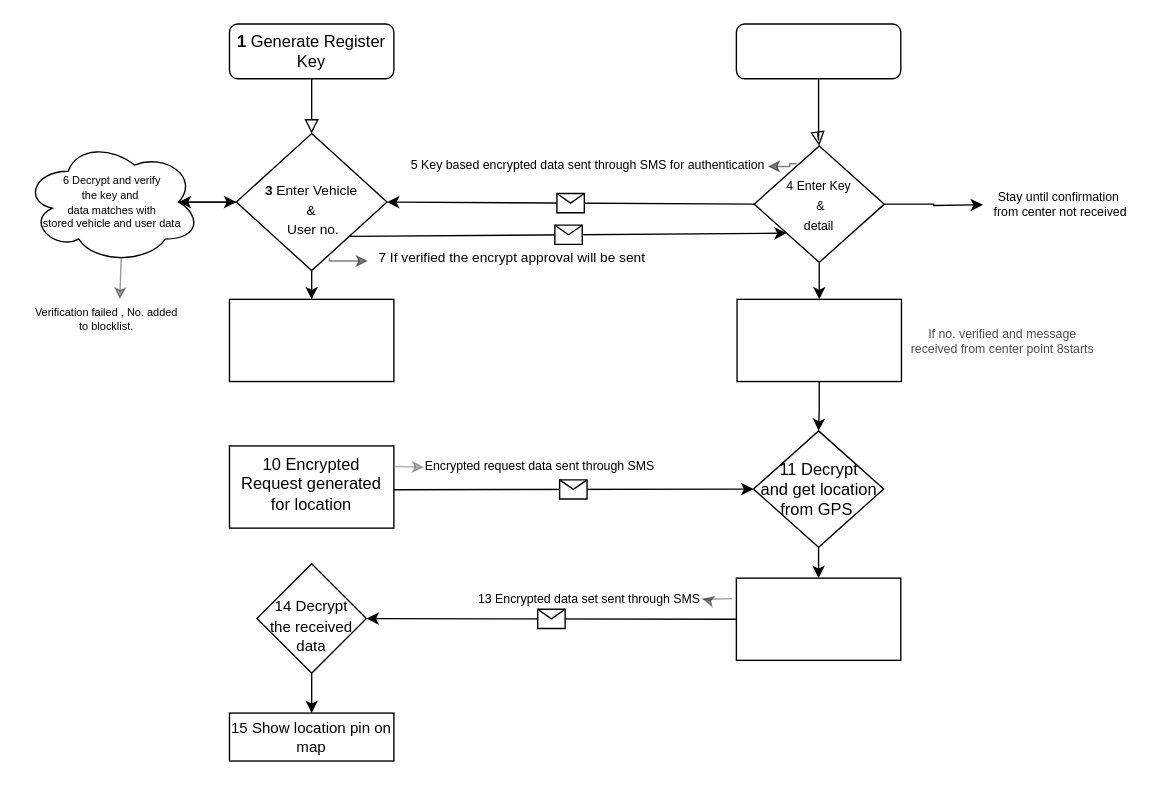
The diagram is 1165 pixels wide and 785 high, and some of its shapes have lost their labels. Here are the shapes that lost their labels. From the top down, the box of each, then its label:
(735, 23, 901, 79): 2 Install app in mobile
(228, 298, 394, 382): 8 Trip key generated manually
(736, 298, 901, 382): 9 Enter trip key and vehicle detail to start trip
(735, 577, 901, 660): 12 Encrypt the data on app-register -trip key, set in defined format
